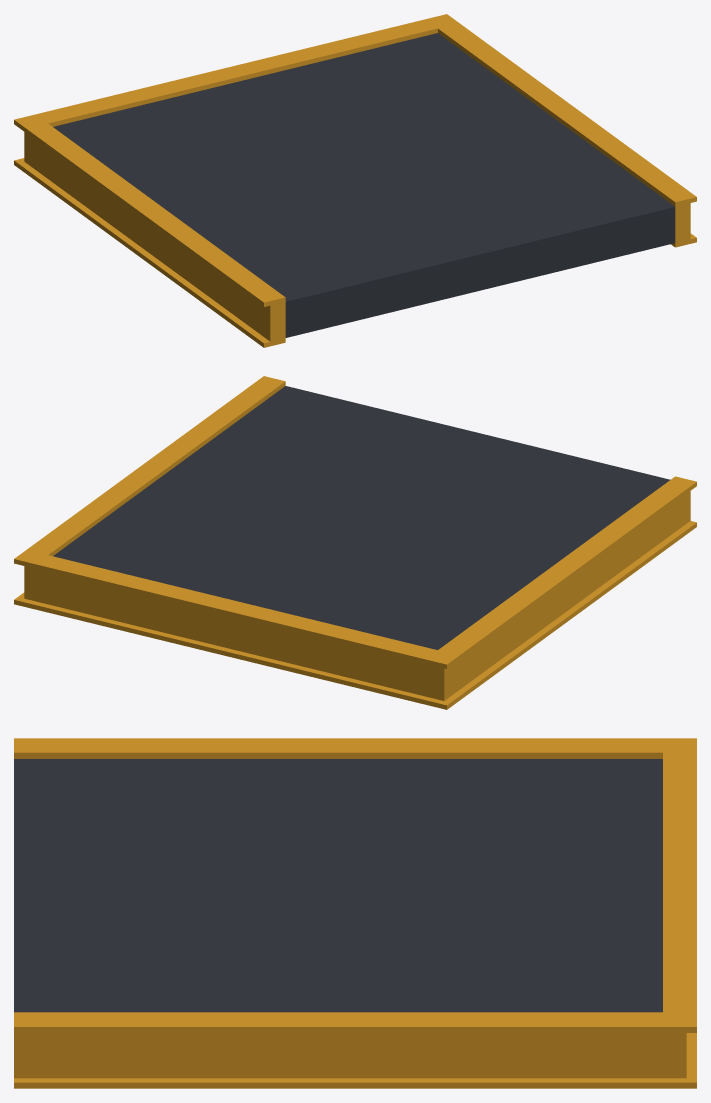
Rendered from Catwalk_2x2_End.fbx.
3 renders of one model, top to bottom at view 1: azimuth 30°, elevation 25°; view 2: azimuth 150°, elevation 25°; view 3: azimuth 270°, elevation 25°, orthographic. The views are drawn at different scales.
Parts seen in each view (by area): view 1: Catwalk_2x2_End; view 2: Catwalk_2x2_End; view 3: Catwalk_2x2_End.
Part boxes in pixels (x1=…): Catwalk_2x2_End: x1=14, y1=14, x2=696, y2=347; Catwalk_2x2_End: x1=14, y1=376, x2=696, y2=709; Catwalk_2x2_End: x1=14, y1=738, x2=696, y2=1088.
Bounding box in the file's own units: 200 × 20 × 200.
